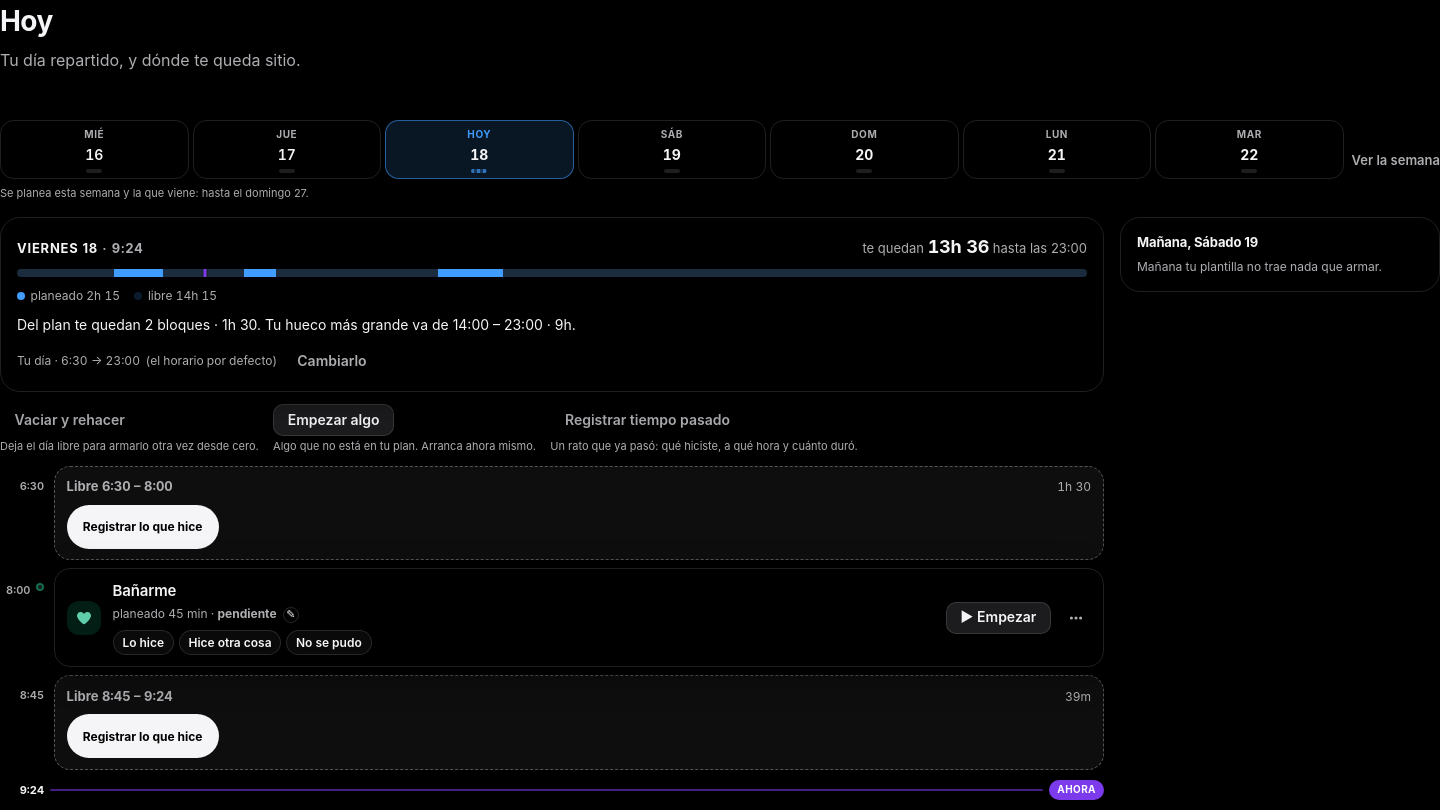
it: VidaHoyPage — registrar lo que se sale (criterios 30 a 37 y 56) › criterios 622 a 625 — «Empezar algo» ofrece cinco fichas, una por actividad y sin duración
Click the button "Empezar algo" at (334, 420), box [273,404,394,436]
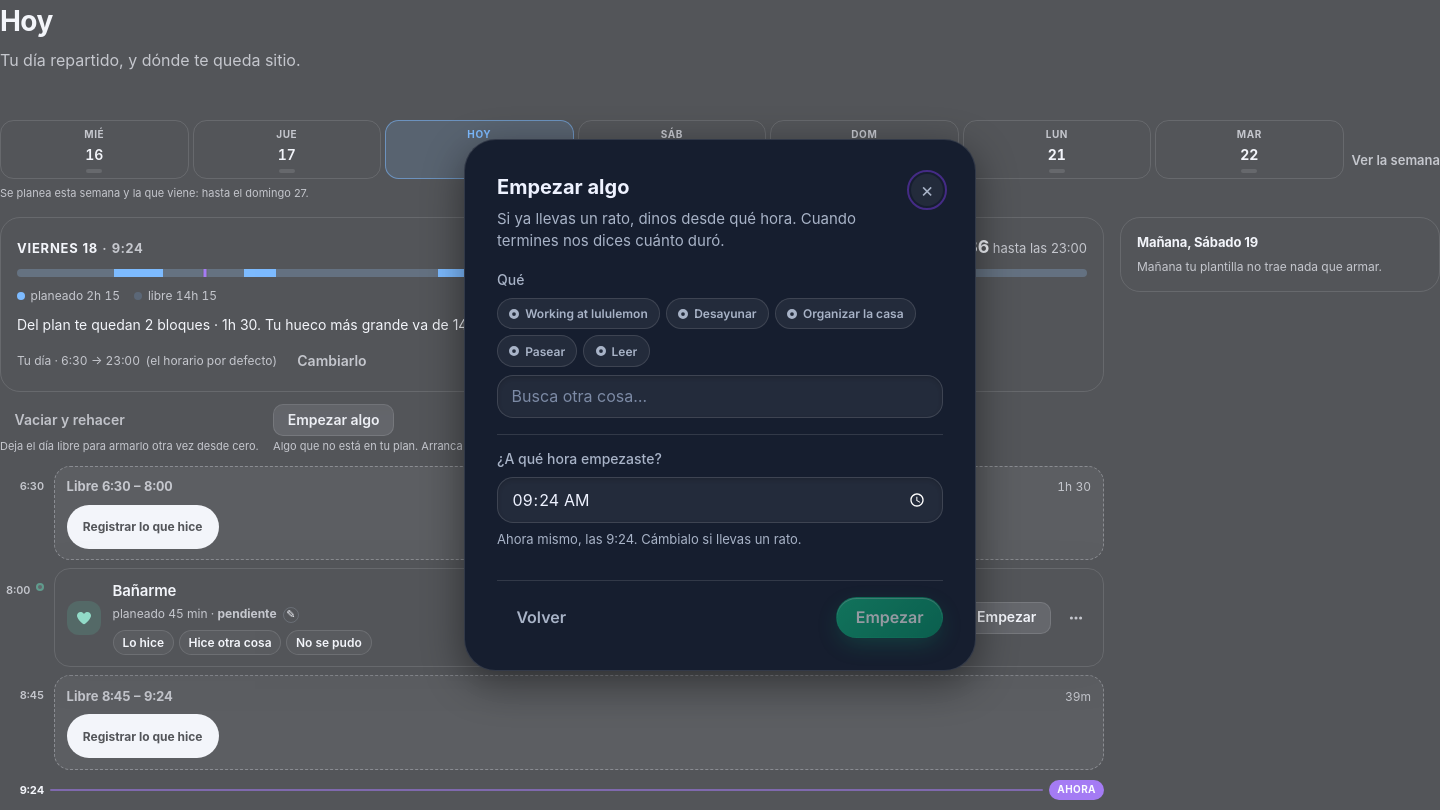
Check: the number of buttons "Working at lululemon" is 1, box [497,298,660,329]
Check: the search field named "Buscar entre tus actividades" is shown, box [497,375,943,418]
Check: the time field named "Hora a la que empezaste" is shown, box [497,477,943,523]
